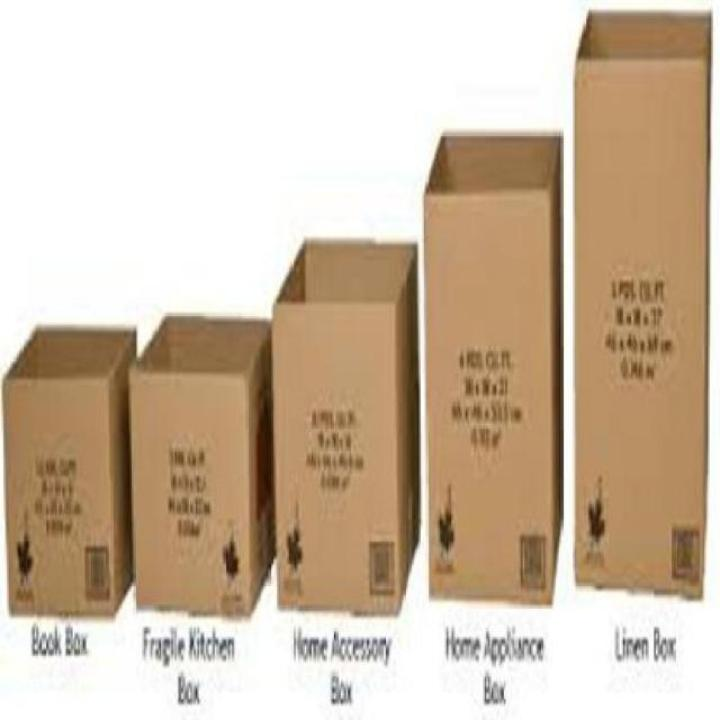box: (562, 5, 718, 600), (414, 123, 568, 606), (268, 234, 420, 620), (125, 314, 270, 622), (3, 324, 138, 623)
